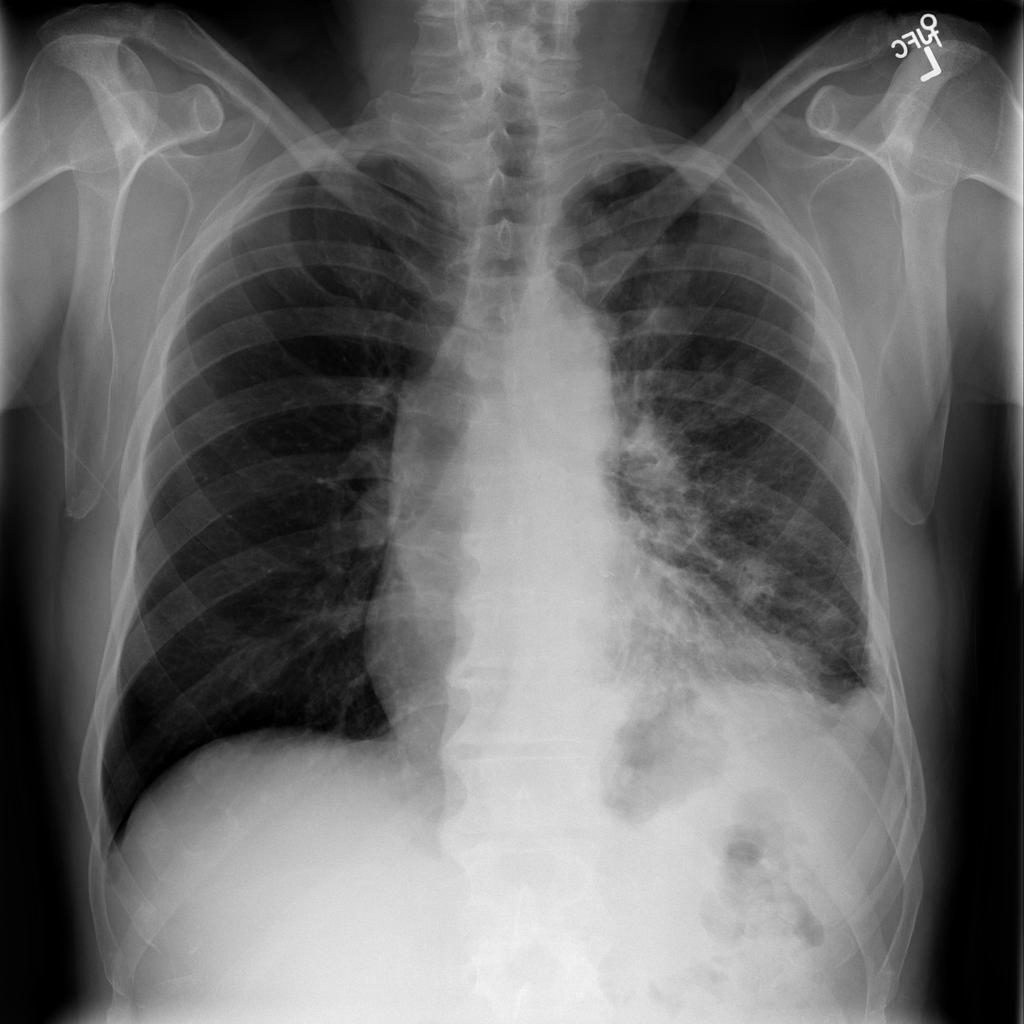nodule: (779, 293, 849, 375)
